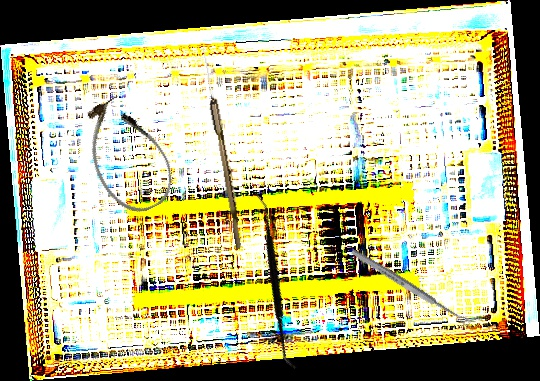Cannula: (69, 87, 185, 224)
Spatula Surgical: (190, 191, 363, 371)
Surgical Spoon: (349, 246, 472, 329), (197, 46, 247, 250)
